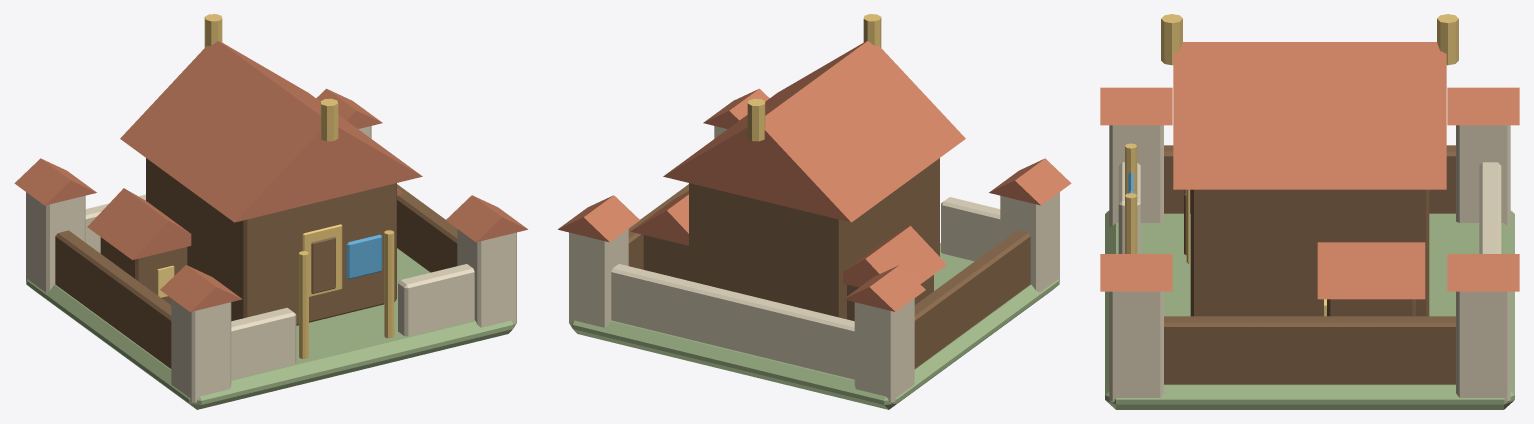
File: CityNorse.fbx
3 views of the same model, side by side, from view 1: azimuth 30°, elevation 25°; view 2: azimuth 150°, elevation 25°; view 3: azimuth 270°, elevation 25° (orthographic). The views are drawn at different scales.
Visible parts, largest first — view 1: CityNorse; view 2: CityNorse; view 3: CityNorse.
Boxes of the visible parts, x1=… form: CityNorse: x1=14, y1=14, x2=527, y2=409; CityNorse: x1=558, y1=14, x2=1071, y2=409; CityNorse: x1=1100, y1=14, x2=1519, y2=409.
Bounding box in the file's own units: 3.41 × 2.43 × 3.07.
